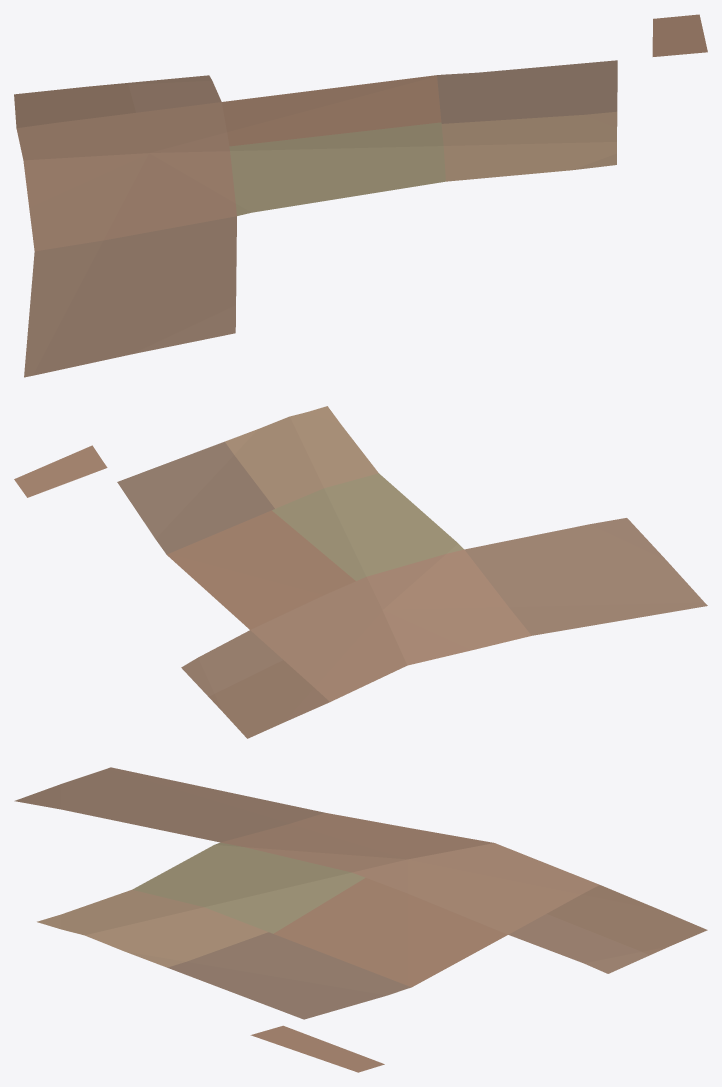
File: farm_-30_-34_soil.glb
3 views of the same model, one above another, from view 1: azimuth 30°, elevation 25°; view 2: azimuth 150°, elevation 25°; view 3: azimuth 270°, elevation 25° (orthographic). The views are drawn at different scales.
Visible parts, largest first — view 1: geometry_0; view 2: geometry_0; view 3: geometry_0.
Part boxes in pixels (left/top/right/bottom): geometry_0: left=14, top=14, right=707, bottom=377; geometry_0: left=14, top=406, right=707, bottom=738; geometry_0: left=14, top=767, right=707, bottom=1072.
Bounding box in the file's own units: 203 × 31.13 × 160.
